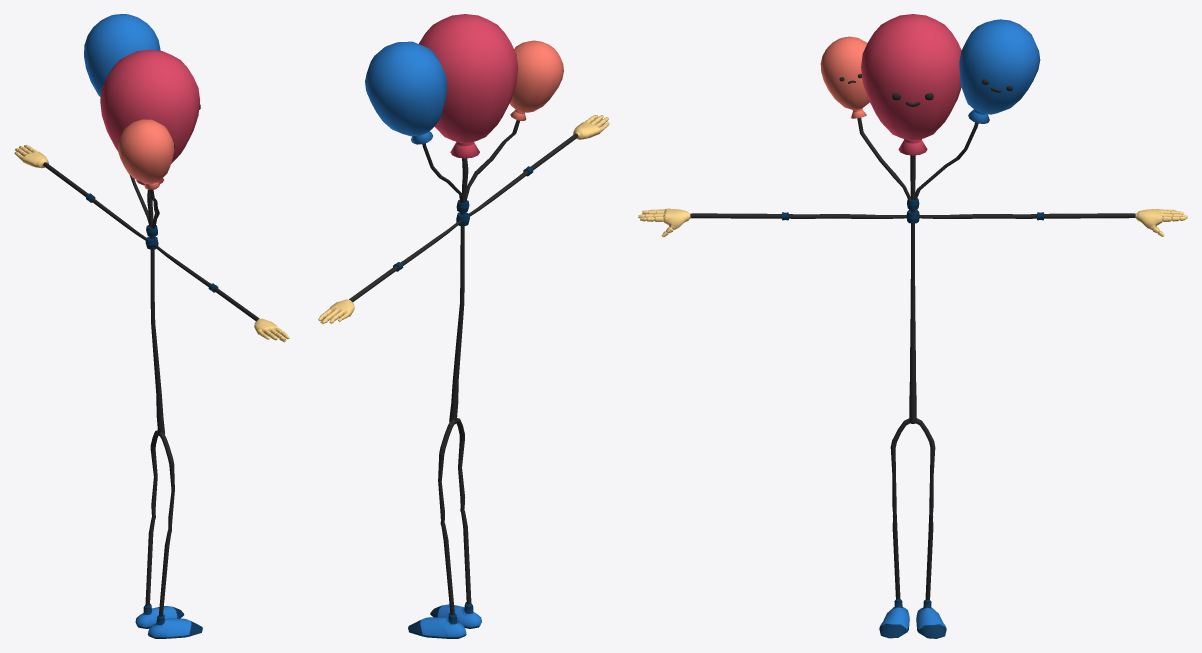
The model's file is Ballony.glb.
The picture shows the model from 3 angles, left to right: view 1: azimuth 30°, elevation 25°; view 2: azimuth 150°, elevation 25°; view 3: azimuth 270°, elevation 25°; orthographic projection. The views are drawn at different scales.
Visible parts, largest first — view 1: _100Avatars_121_Ballony; view 2: _100Avatars_121_Ballony; view 3: _100Avatars_121_Ballony.
Part boxes in pixels (x1,y1,x2,y2): _100Avatars_121_Ballony: [14, 14, 289, 638]; _100Avatars_121_Ballony: [318, 14, 609, 638]; _100Avatars_121_Ballony: [638, 14, 1187, 638].
Bounding box in the file's own units: 1.33 × 6.95 × 5.75.
1 material, 1 textured.
